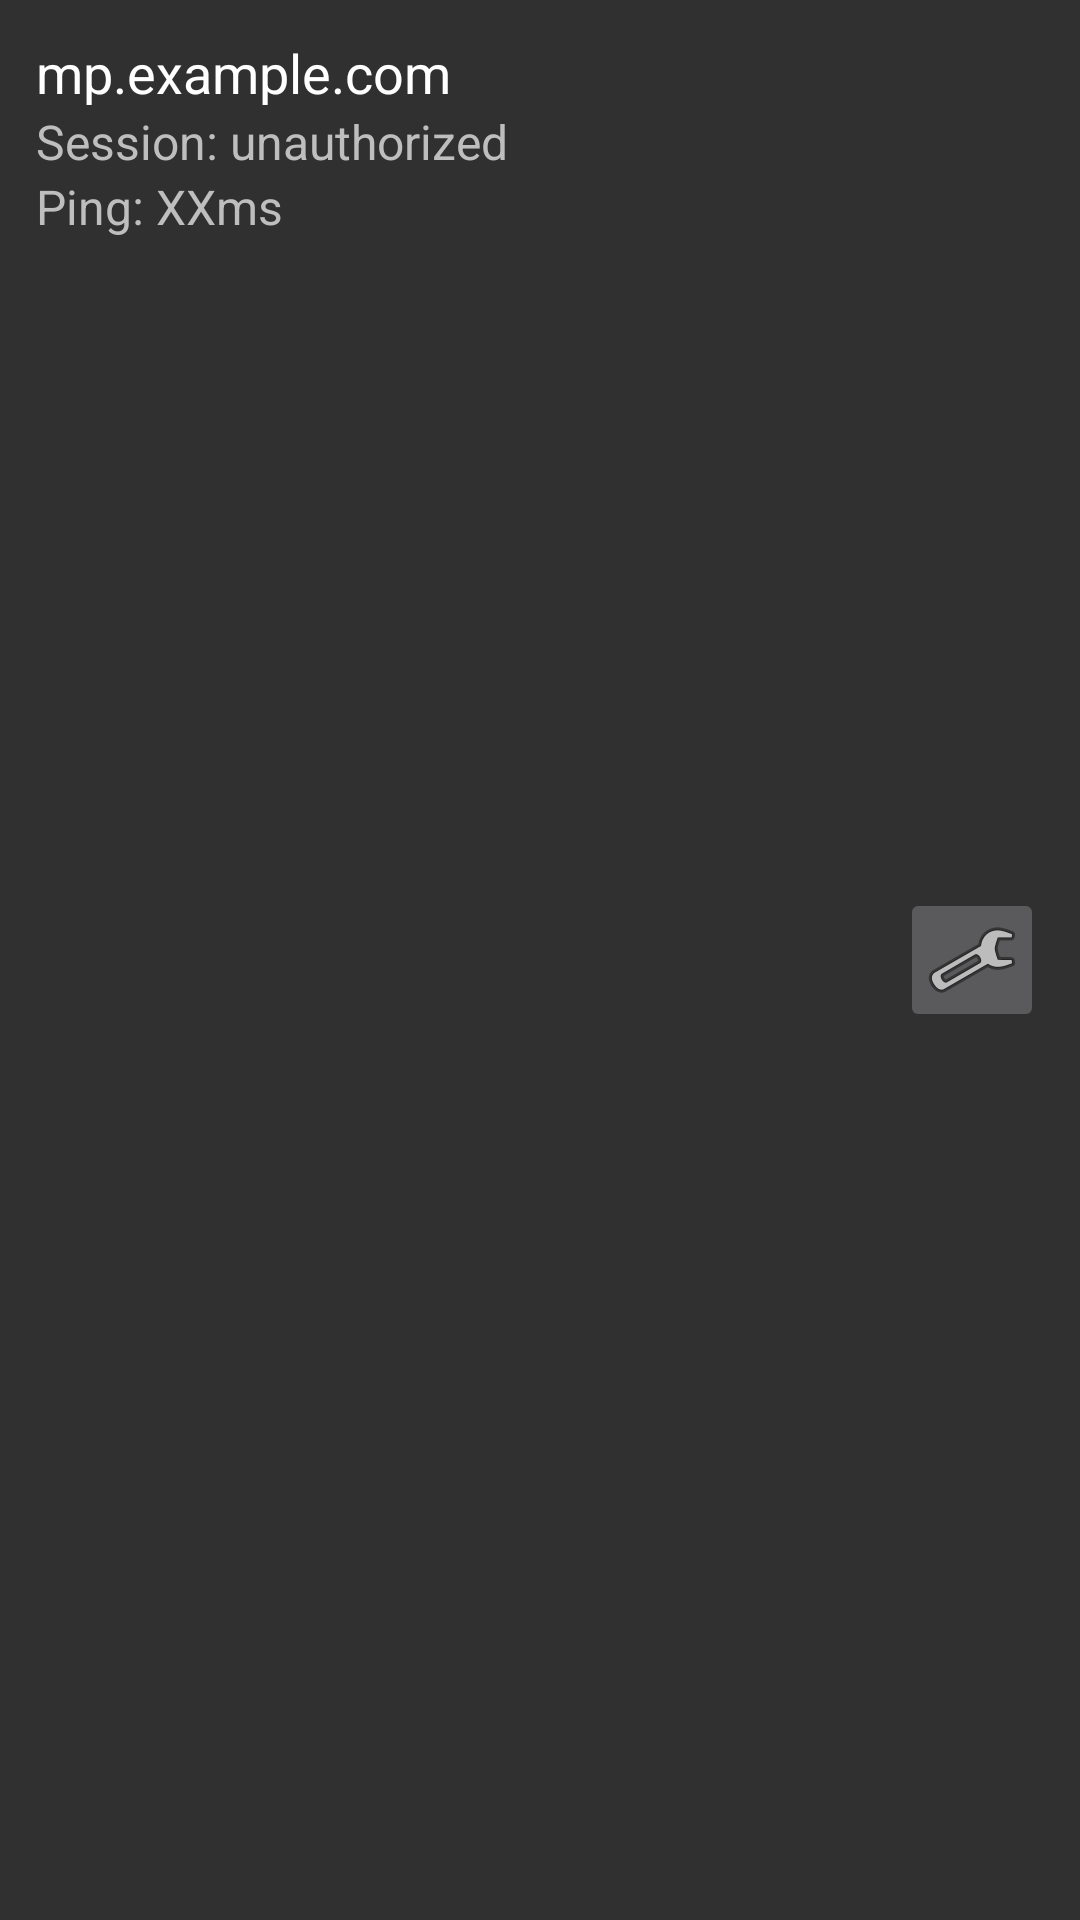

Point at icon controls on the screen. Image size 1080×1920, points as point (x, y).
preferences: point (972, 960)
